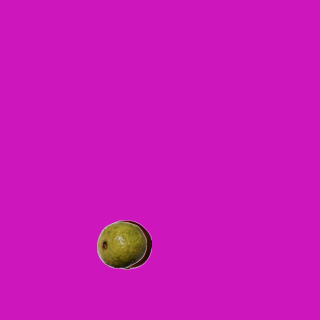Apple Braeburn: (101, 219, 151, 269)
Guava: (96, 219, 146, 269)
